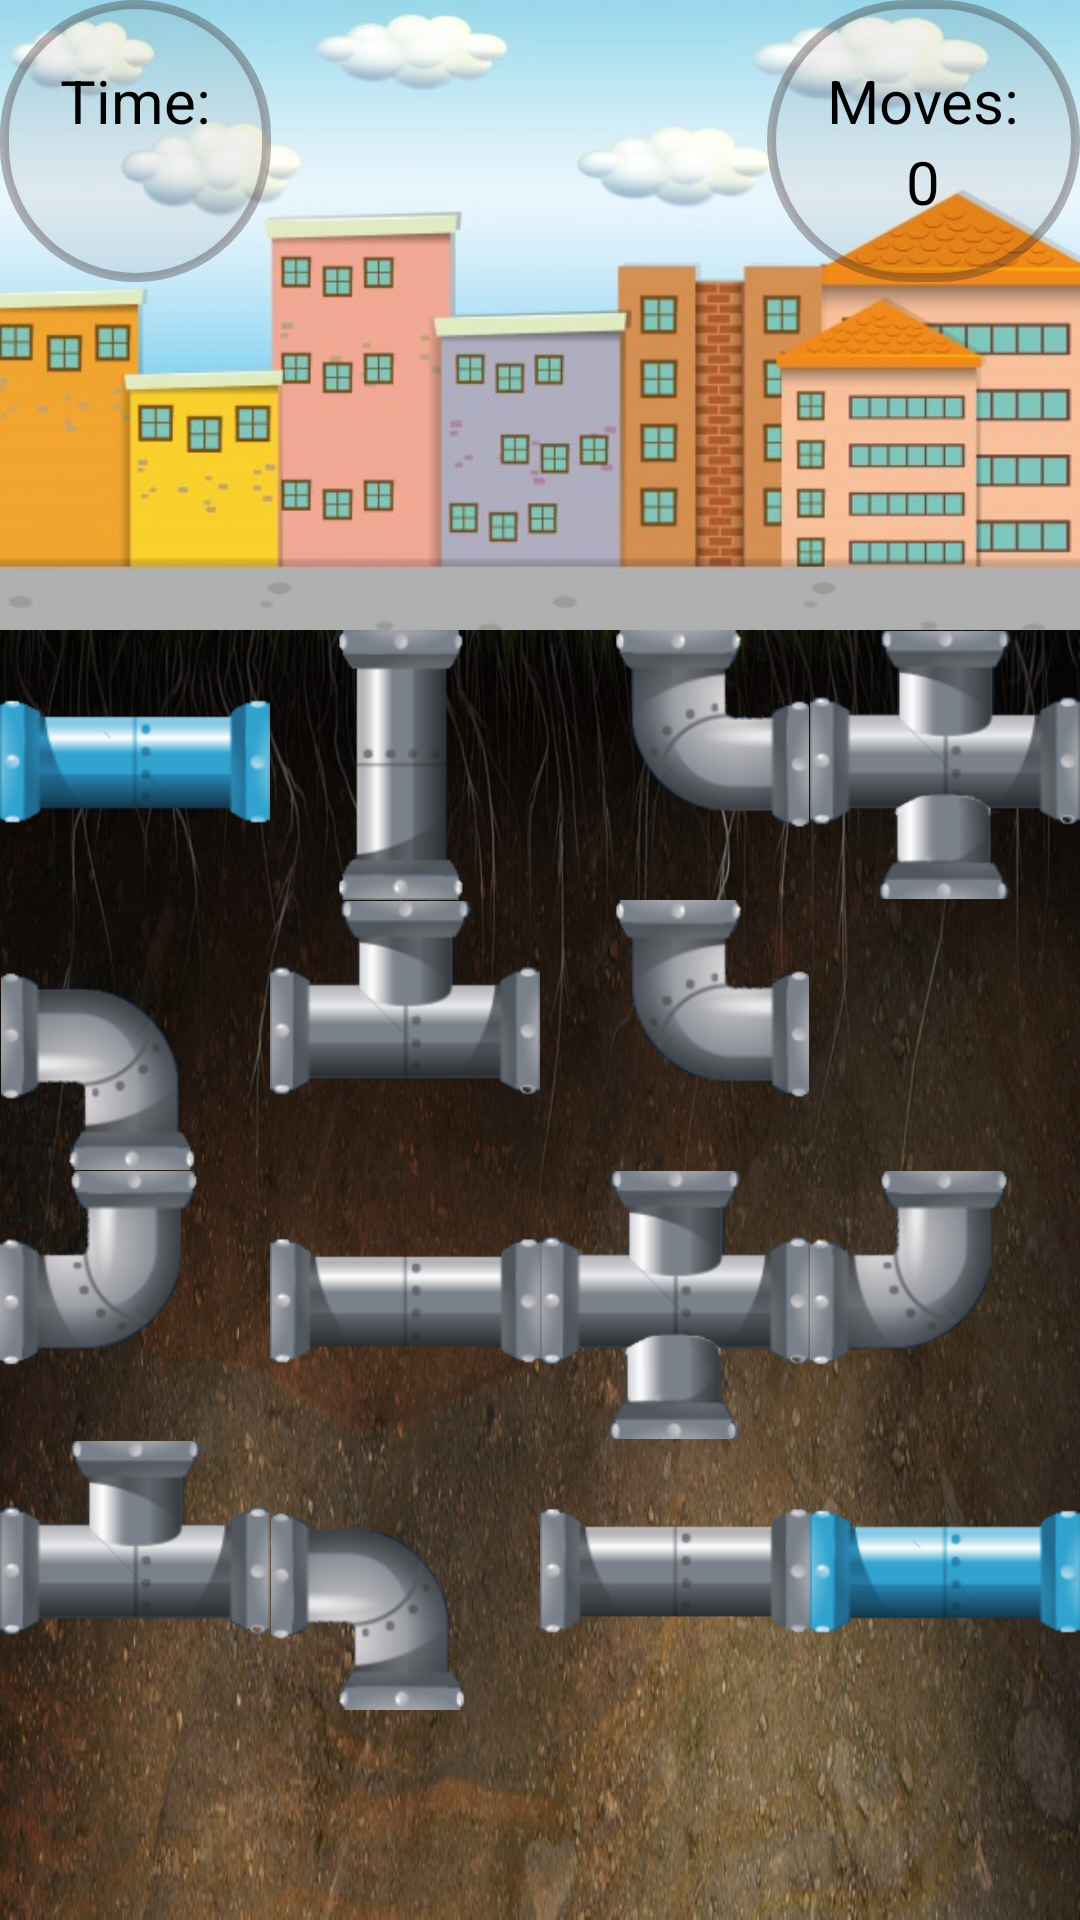

Named icons in this screenshot (1080 x 1920) and their centers, (x,y):
pipe borders leftbottom: (135,1035), (405,1575)
pipe borders lefttop: (135,1305), (941,1305)
pipe borders righttop: (675,765), (676,1035)
pipe fork top: (405,1035), (135,1575)
pipe four: (945,765), (675,1305)
pipe straight: (135,765), (405,1305), (675,1575), (945,1575)
pipe vertical: (405,765)
